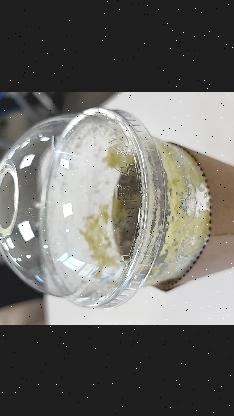Others: (0, 104, 234, 308), (0, 106, 168, 310)
